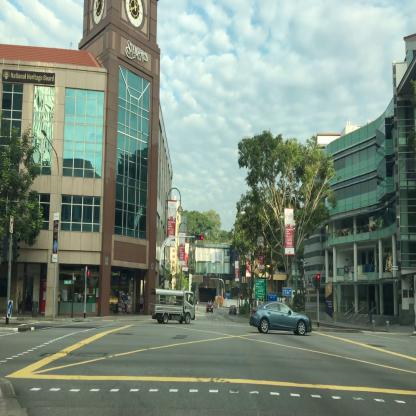red_traffic_light: (195, 235, 203, 240), (317, 272, 319, 288)
